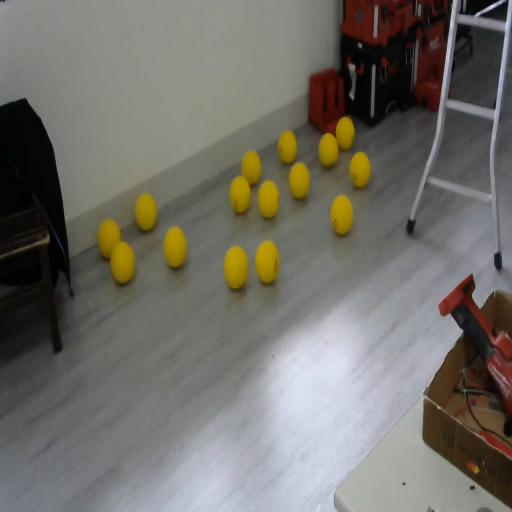FUEL: (223, 244, 249, 290), (162, 224, 188, 270), (109, 240, 136, 284), (254, 239, 280, 284), (330, 194, 353, 236), (257, 178, 279, 218), (135, 193, 157, 231), (229, 176, 251, 214), (288, 162, 310, 199), (241, 149, 262, 186), (350, 150, 370, 188), (318, 131, 338, 168), (335, 116, 355, 150), (278, 130, 297, 164)
